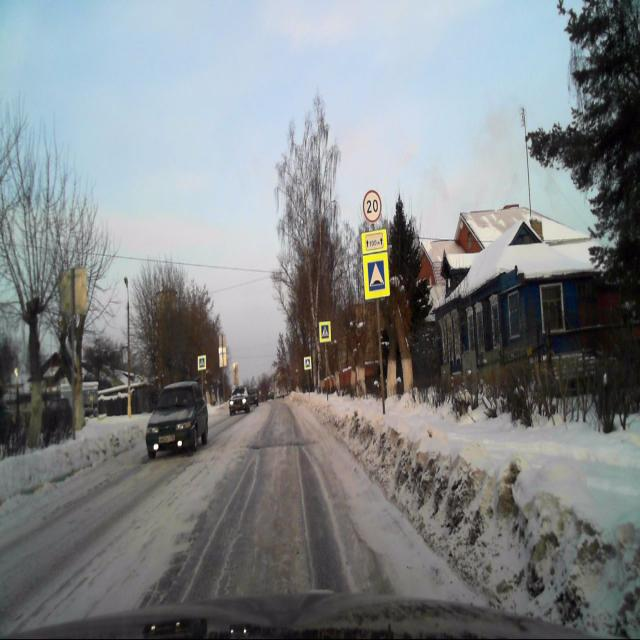object: (376, 303, 386, 418)
road sign: (362, 252, 390, 300), (362, 229, 387, 253), (319, 321, 330, 342)
